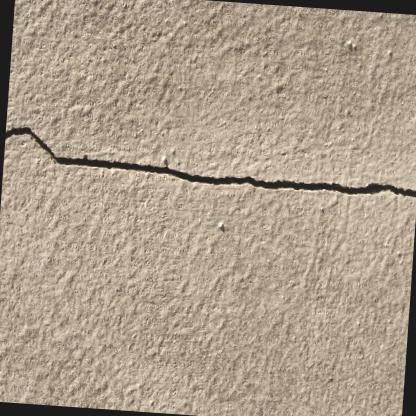crack: (4, 125, 416, 198)
